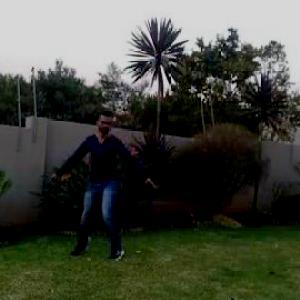land: (42, 102, 181, 272)
